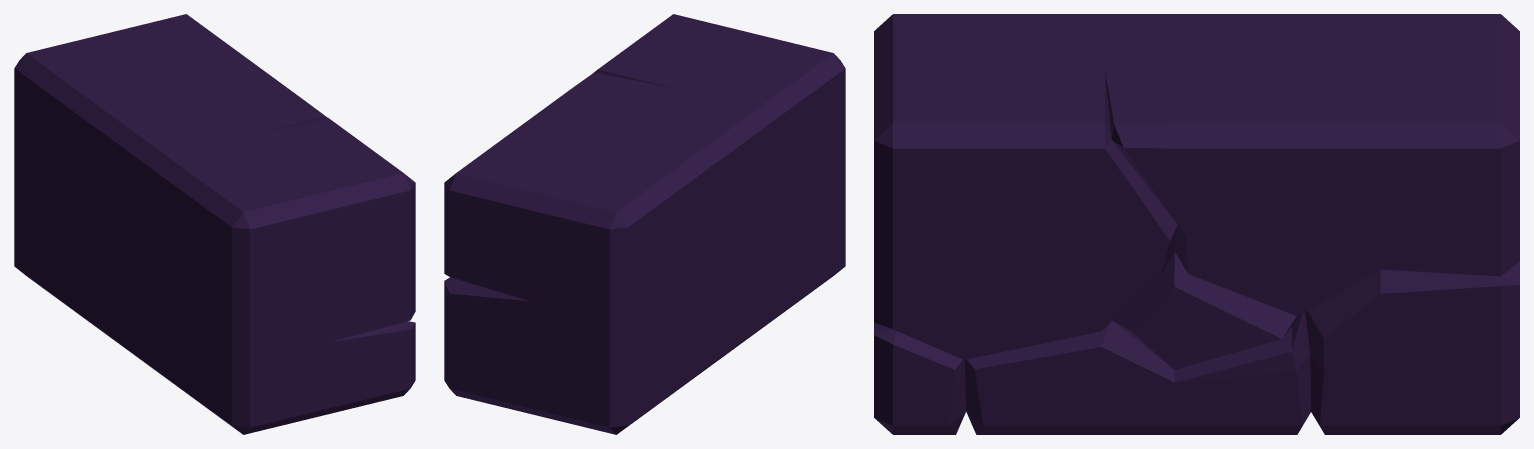
Rendered from brick3.glb.
3 views of the same model, side by side, from view 1: azimuth 30°, elevation 25°; view 2: azimuth 150°, elevation 25°; view 3: azimuth 270°, elevation 25° (orthographic). The views are drawn at different scales.
Parts seen in each view (by area): view 1: BrickCrack3; view 2: BrickCrack3; view 3: BrickCrack3.
Boxes of the visible parts, box(x1,y1,x2,y2) form: BrickCrack3: box(14, 14, 415, 434); BrickCrack3: box(444, 14, 845, 434); BrickCrack3: box(874, 14, 1519, 434).
Size of the model in its own units: 1.73 by 2 by 3.76.
